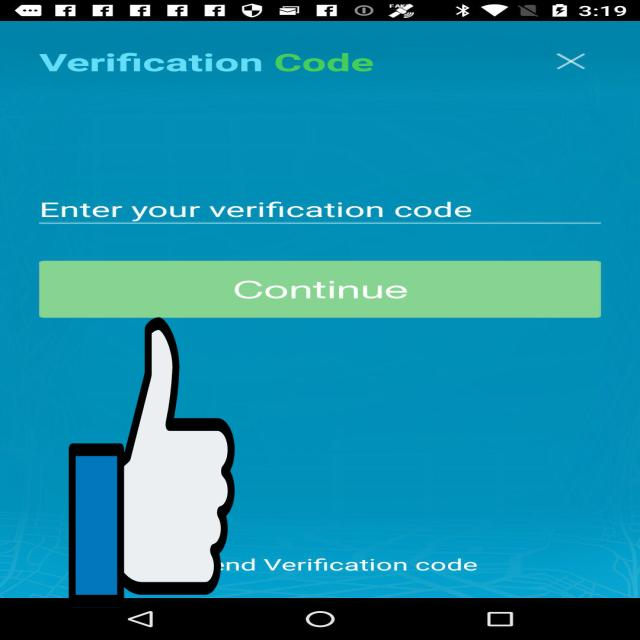privacy zuckering: (68, 311, 235, 614)
